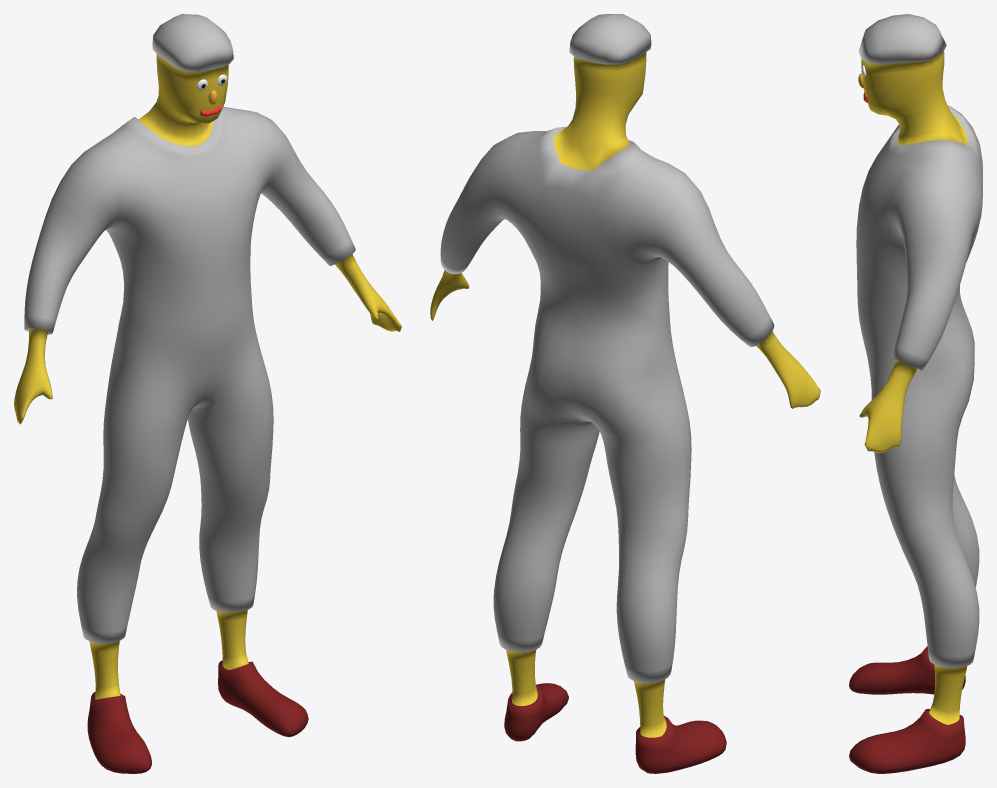
File: Karakter7.fbx
The picture shows the model from 3 angles, left to right: view 1: azimuth 30°, elevation 25°; view 2: azimuth 150°, elevation 25°; view 3: azimuth 270°, elevation 25°; orthographic projection.
Parts seen in each view (by area): view 1: Character; view 2: Character; view 3: Character.
Boxes of the visible parts, x1,y1,x2,y2 form: Character: (14, 14, 401, 773); Character: (430, 14, 820, 773); Character: (849, 14, 982, 773).
Bounding box in the file's own units: 157 × 283 × 48.33.
Materials: 1 (1 with a texture image).
